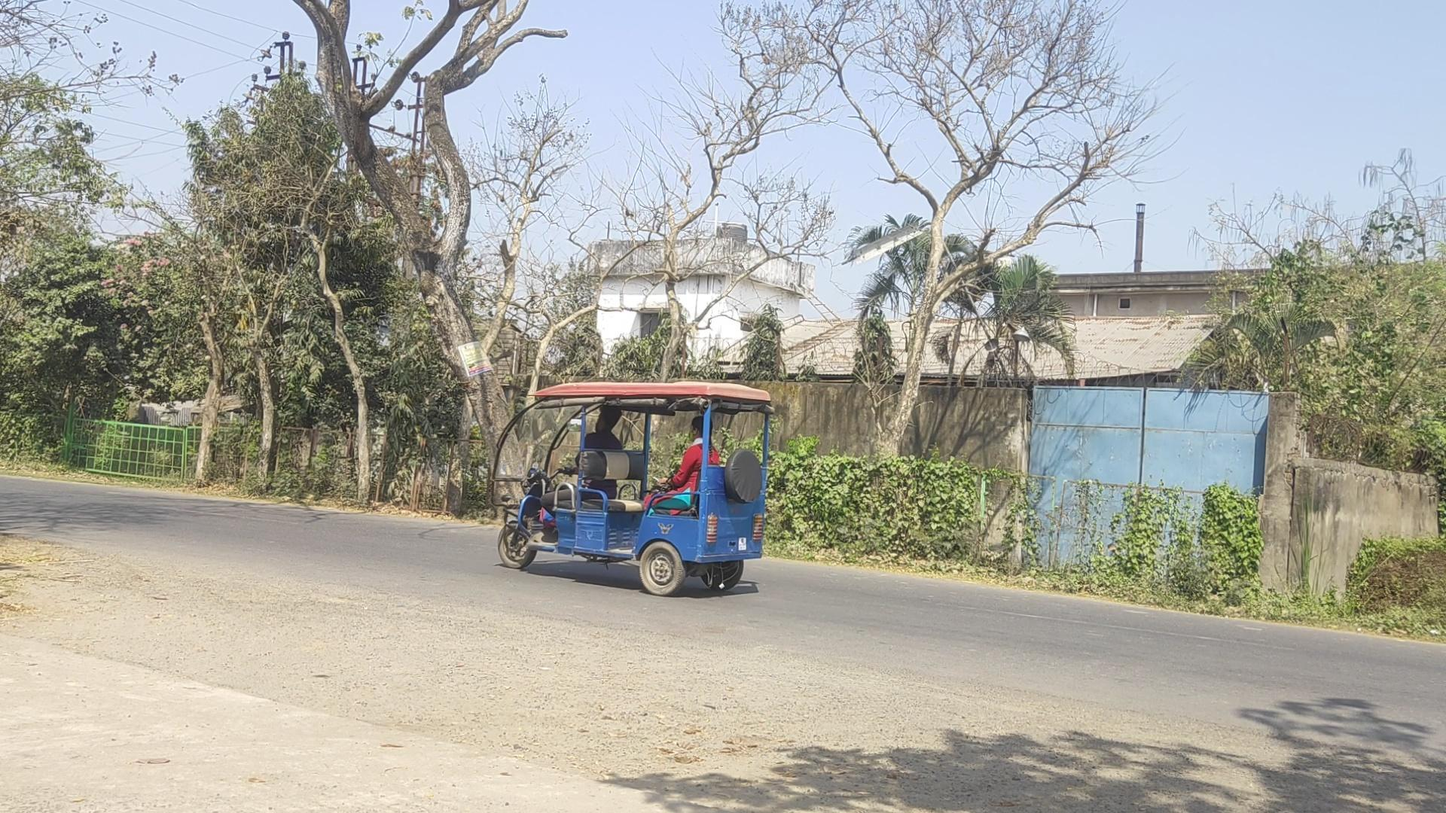Auto: (490, 382, 775, 596)
